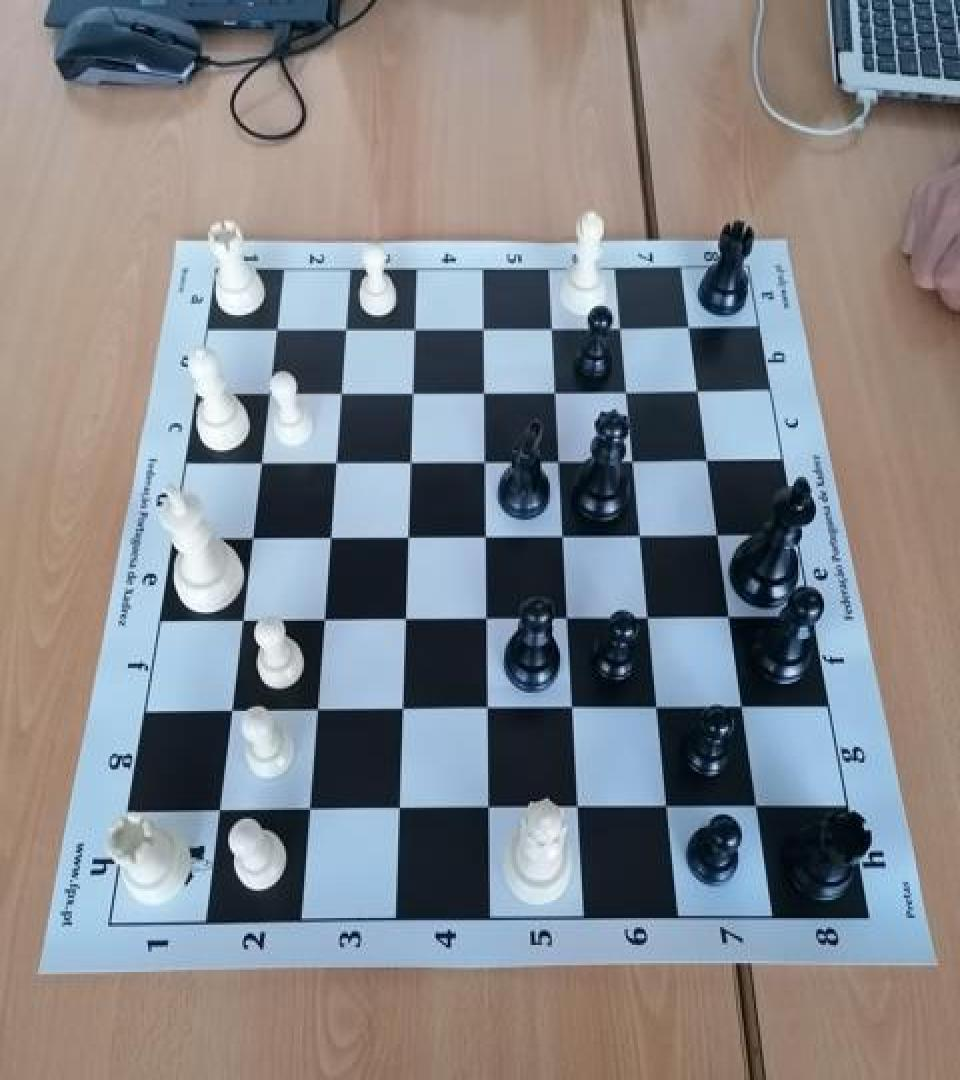xcorner: (678, 310, 710, 346), (608, 310, 640, 346), (538, 310, 570, 346), (468, 310, 500, 346), (398, 310, 430, 346), (328, 310, 360, 346), (258, 312, 290, 348), (687, 374, 719, 410), (615, 374, 647, 410), (542, 374, 574, 410), (469, 374, 501, 410), (396, 376, 428, 412), (324, 376, 356, 412), (250, 376, 282, 412), (697, 443, 729, 479), (621, 444, 653, 480), (546, 444, 578, 480), (470, 444, 502, 480), (242, 446, 274, 482), (707, 518, 739, 554), (629, 520, 661, 556), (550, 520, 582, 556), (471, 521, 503, 557), (392, 521, 424, 557), (313, 522, 345, 558), (234, 522, 266, 558), (719, 601, 751, 637), (637, 602, 669, 638), (555, 603, 587, 639), (472, 603, 504, 639), (390, 604, 422, 640), (307, 604, 339, 640), (225, 605, 257, 641), (731, 691, 763, 727), (645, 692, 677, 728), (560, 692, 592, 728), (473, 693, 505, 729), (387, 694, 419, 730), (301, 694, 333, 730), (214, 695, 246, 731), (745, 788, 777, 824), (655, 790, 687, 826), (565, 791, 597, 827), (475, 792, 507, 828), (384, 793, 416, 829), (294, 793, 326, 829), (203, 794, 235, 830), (394, 446, 426, 481), (319, 446, 351, 481)
